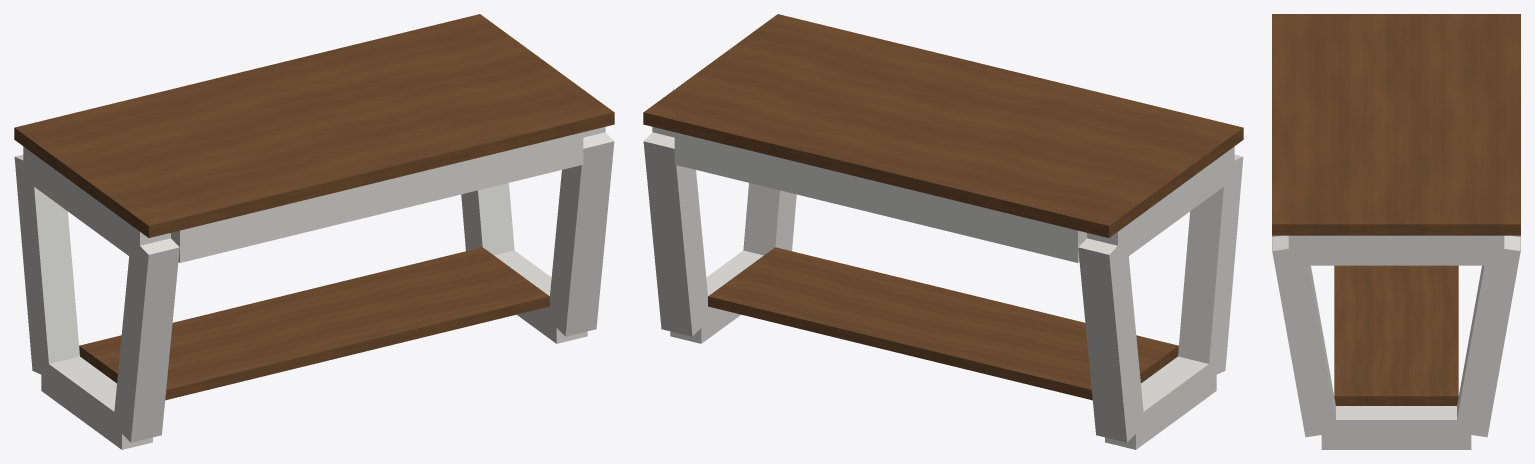
File: mesa-living-nord-estante-nogal-blanco.glb
The picture shows the model from 3 angles, left to right: view 1: azimuth 30°, elevation 25°; view 2: azimuth 150°, elevation 25°; view 3: azimuth 270°, elevation 25°; orthographic projection. The views are drawn at different scales.
Visible parts, largest first — view 1: Tapa de madera maciza 120 x 60 x 3 cm, Pata inclinada hacia adentro, perfil 80 x 80 mm (×4), Estante inferior de madera (proporción aproximada), Larguero longitudinal superior de hierro 80 x 80 mm, Travesaño inferior del trapecio, ancho exterior 44 cm (×2), Travesaño superior del trapecio, ancho exterior 60 cm; view 2: Tapa de madera maciza 120 x 60 x 3 cm, Pata inclinada hacia adentro, perfil 80 x 80 mm (×4), Estante inferior de madera (proporción aproximada), Larguero longitudinal superior de hierro 80 x 80 mm, Travesaño inferior del trapecio, ancho exterior 44 cm (×2), Travesaño superior del trapecio, ancho exterior 60 cm; view 3: Tapa de madera maciza 120 x 60 x 3 cm, Estante inferior de madera (proporción aproximada), Pata inclinada hacia adentro, perfil 80 x 80 mm (×2), Travesaño superior del trapecio, ancho exterior 60 cm, Travesaño inferior del trapecio, ancho exterior 44 cm.
Boxes of the visible parts, <box> form: Tapa de madera maciza 120 x 60 x 3 cm: <box>14,14,614,237</box>; Pata inclinada hacia adentro, perfil 80 x 80 mm (×4): <box>14,132,614,442</box>; Estante inferior de madera (proporción aproximada): <box>79,247,549,400</box>; Larguero longitudinal superior de hierro 80 x 80 mm: <box>171,132,583,262</box>; Travesaño inferior del trapecio, ancho exterior 44 cm (×2): <box>41,250,587,449</box>; Travesaño superior del trapecio, ancho exterior 60 cm: <box>23,146,170,263</box>; Tapa de madera maciza 120 x 60 x 3 cm: <box>643,14,1243,237</box>; Pata inclinada hacia adentro, perfil 80 x 80 mm (×4): <box>643,132,1243,442</box>; Estante inferior de madera (proporción aproximada): <box>708,247,1178,400</box>; Larguero longitudinal superior de hierro 80 x 80 mm: <box>674,132,1086,262</box>; Travesaño inferior del trapecio, ancho exterior 44 cm (×2): <box>670,250,1216,449</box>; Travesaño superior del trapecio, ancho exterior 60 cm: <box>1087,146,1234,263</box>; Tapa de madera maciza 120 x 60 x 3 cm: <box>1272,14,1520,235</box>; Estante inferior de madera (proporción aproximada): <box>1334,265,1458,405</box>; Pata inclinada hacia adentro, perfil 80 x 80 mm (×2): <box>1272,235,1520,437</box>; Travesaño superior del trapecio, ancho exterior 60 cm: <box>1288,235,1504,265</box>; Travesaño inferior del trapecio, ancho exterior 44 cm: <box>1321,406,1471,449</box>.
Size of the model in its own units: 1.2 by 0.6 by 0.6.
2 materials, 1 textured.
